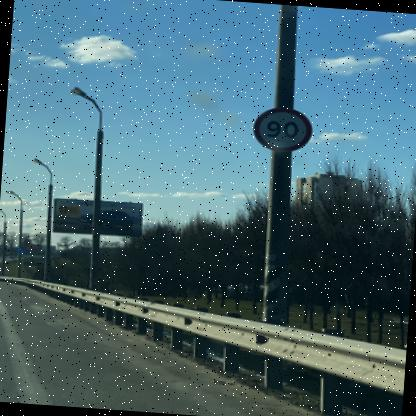speedlimit: (250, 105, 312, 154)
